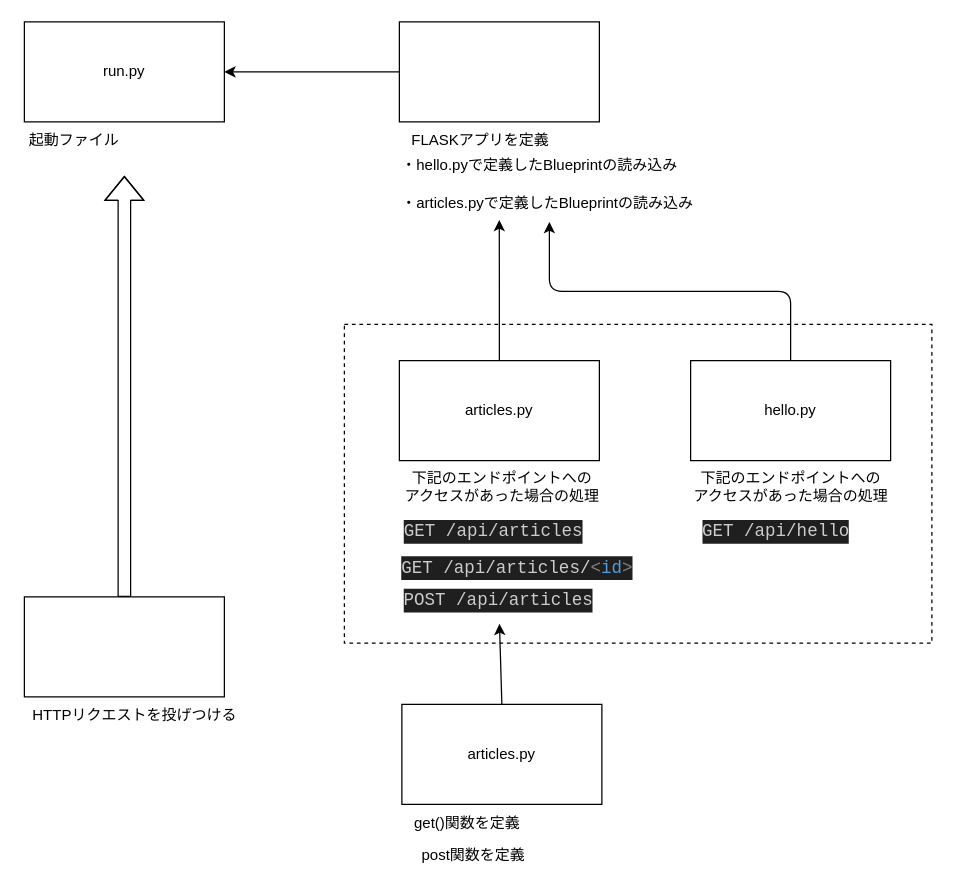
Image size: 954x894. Some labels were removed from this diagram. Each missing label, with the centre of its shape:
request.py: the point at 123,646
server.py: the point at 498,71
